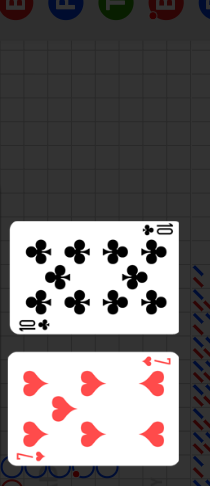10C: (140, 223, 175, 238)
7H: (15, 450, 47, 462)
